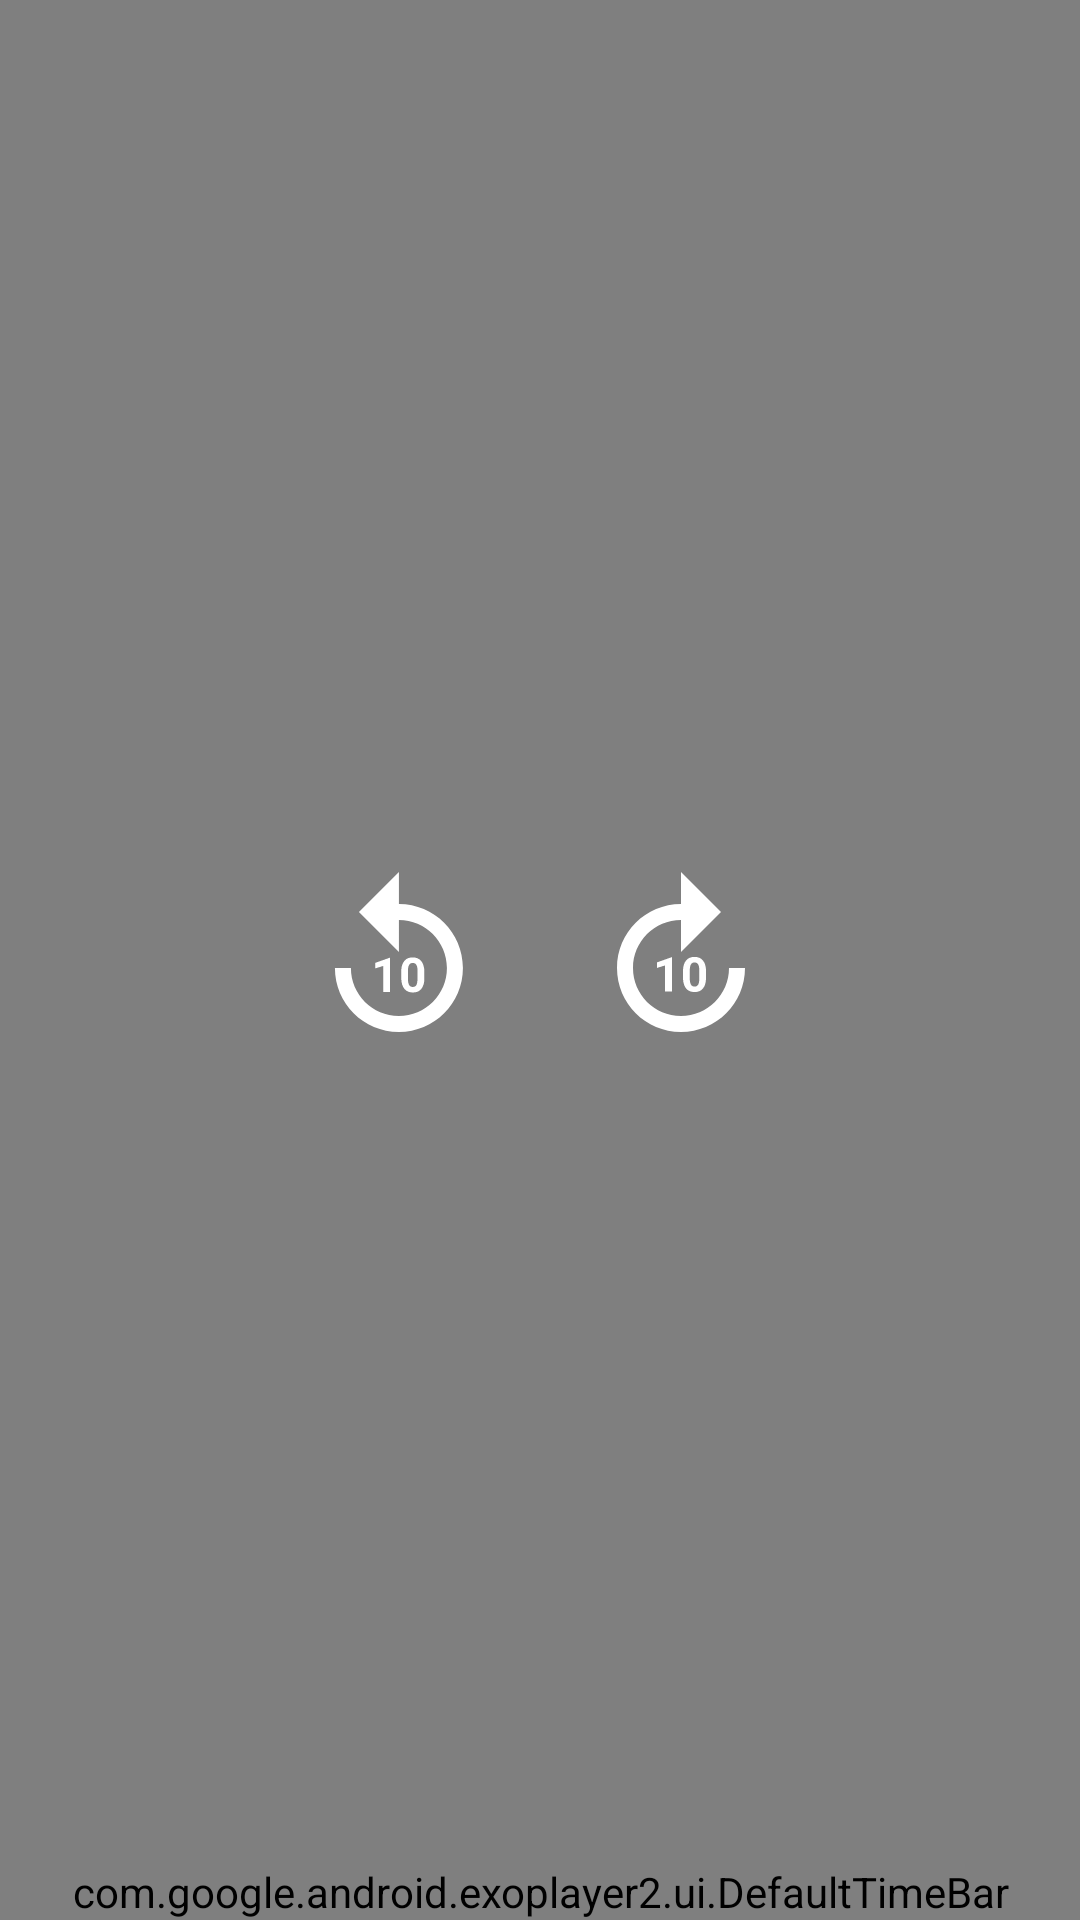

Point at icon controls on the screen. Image size 1080px x 1920px, points as (x,y).
player forward: (681,952)
player replay: (399,952)
